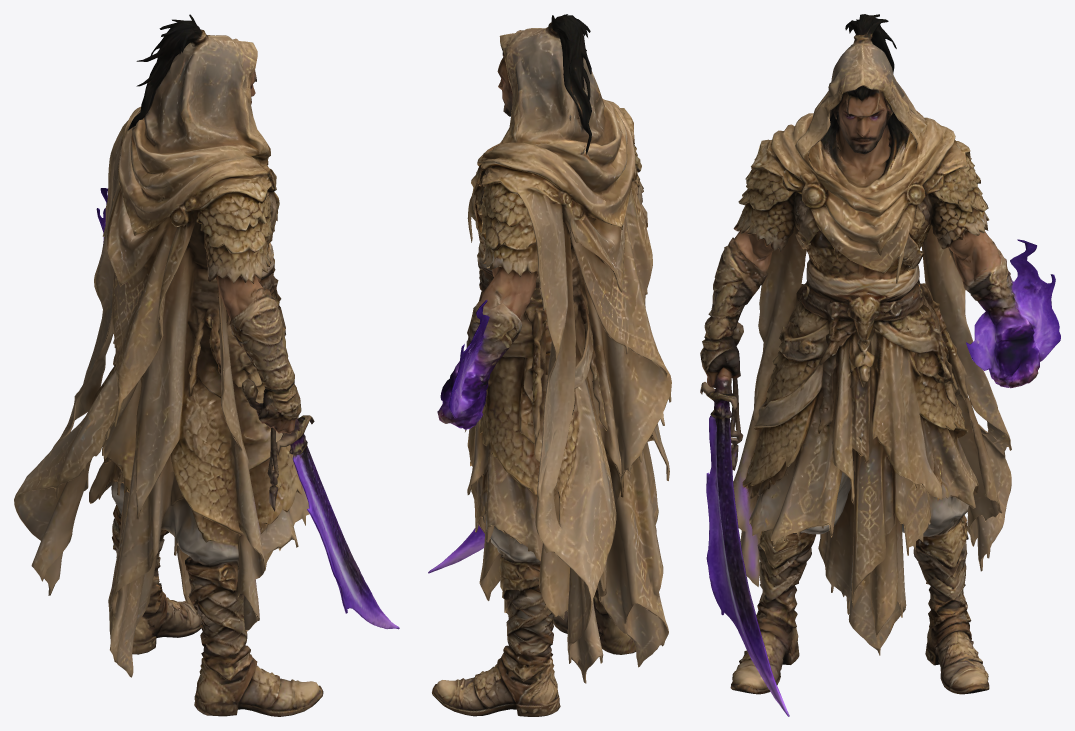
File: wraithsworn-MirageVeil-tripo.glb
3 renders of one model, left to right at view 1: azimuth 30°, elevation 25°; view 2: azimuth 150°, elevation 25°; view 3: azimuth 270°, elevation 25°, orthographic. The views are drawn at different scales.
Parts seen in each view (by area): view 1: tripo_node_53689cd0-ef26-4899-acfe-650c7192d023; view 2: tripo_node_53689cd0-ef26-4899-acfe-650c7192d023; view 3: tripo_node_53689cd0-ef26-4899-acfe-650c7192d023.
Boxes of the visible parts, x1,y1,x2,y2 form: tripo_node_53689cd0-ef26-4899-acfe-650c7192d023: (14, 14, 399, 716); tripo_node_53689cd0-ef26-4899-acfe-650c7192d023: (428, 14, 671, 716); tripo_node_53689cd0-ef26-4899-acfe-650c7192d023: (700, 14, 1060, 716).
Size of the model in its own units: 0.4362 by 1 by 0.5018.
1 material, 1 textured.
